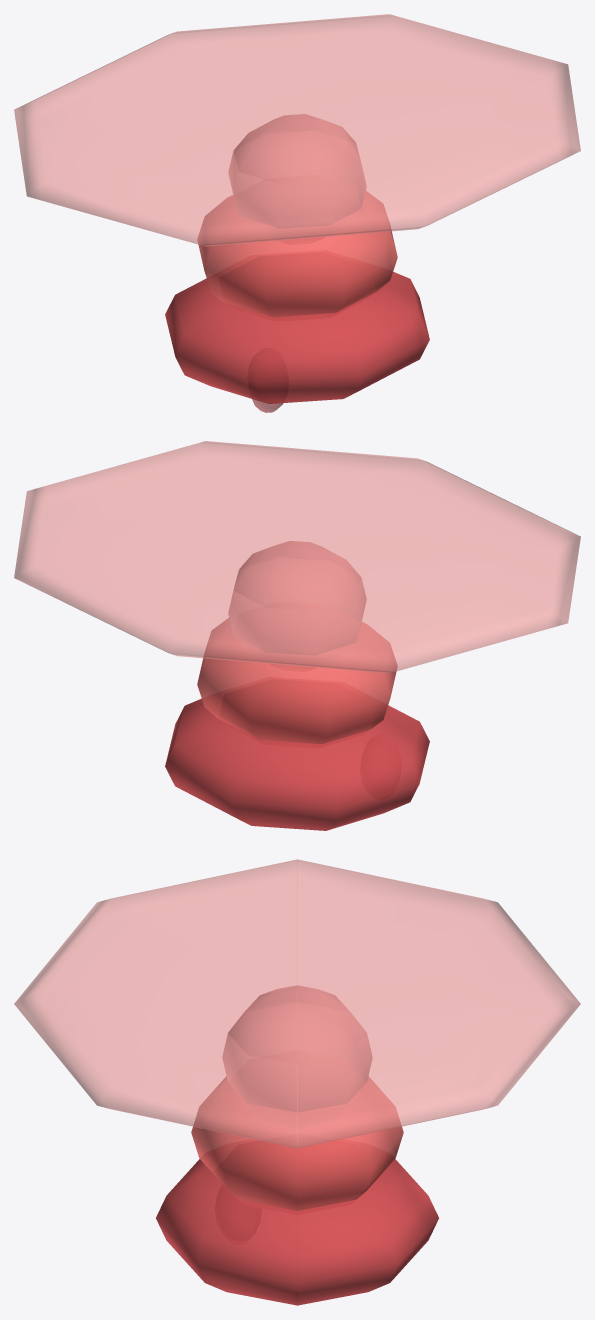
File: cloud_red.glb
The picture shows the model from 3 angles, top to bottom: view 1: azimuth 30°, elevation 25°; view 2: azimuth 150°, elevation 25°; view 3: azimuth 270°, elevation 25°; orthographic projection. The views are drawn at different scales.
Bounding box in the file's own units: 5.76 × 2.84 × 4.8.
